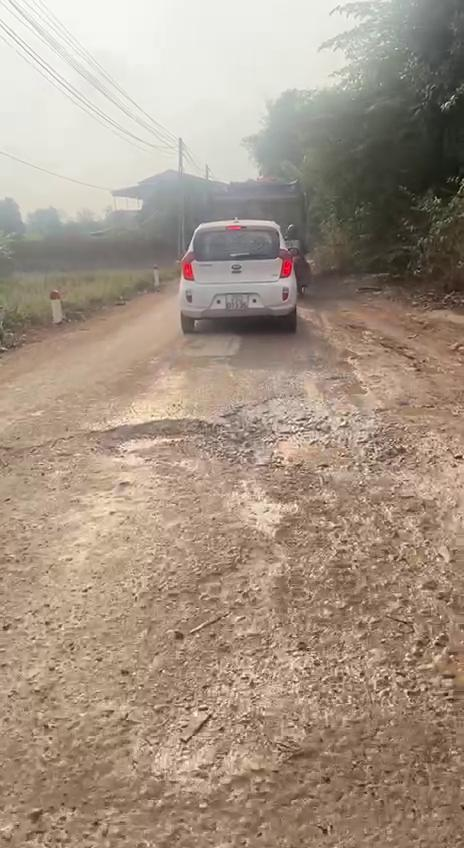pothole: (0, 414, 222, 482), (227, 410, 361, 481)
